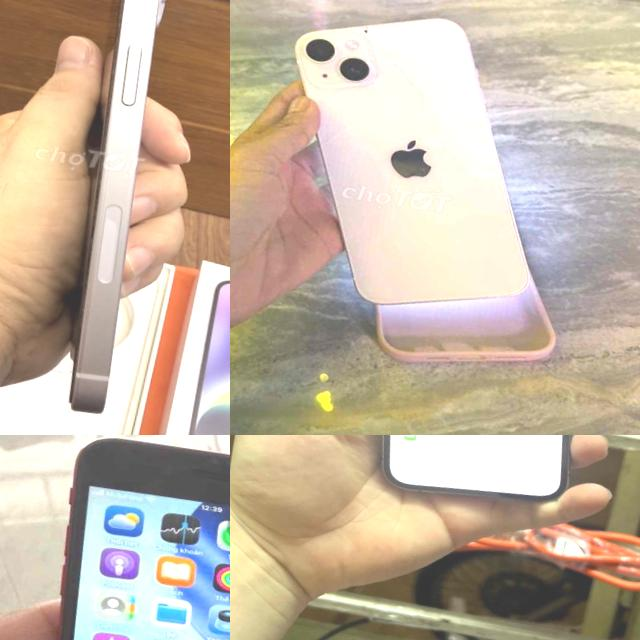gen_12_13: (257, 0, 571, 324)
gen_14: (28, 0, 195, 434)
gen_7_8: (8, 435, 230, 640)
physical_damage: (358, 178, 445, 221), (375, 51, 447, 102), (340, 262, 409, 306), (420, 254, 476, 300), (397, 262, 447, 310), (466, 258, 524, 299), (422, 134, 488, 168), (460, 163, 521, 197), (366, 230, 418, 269), (344, 146, 396, 180), (364, 204, 420, 235), (336, 120, 391, 150), (407, 101, 455, 135), (362, 96, 406, 126), (408, 18, 444, 52), (356, 26, 395, 54), (316, 134, 344, 160)
